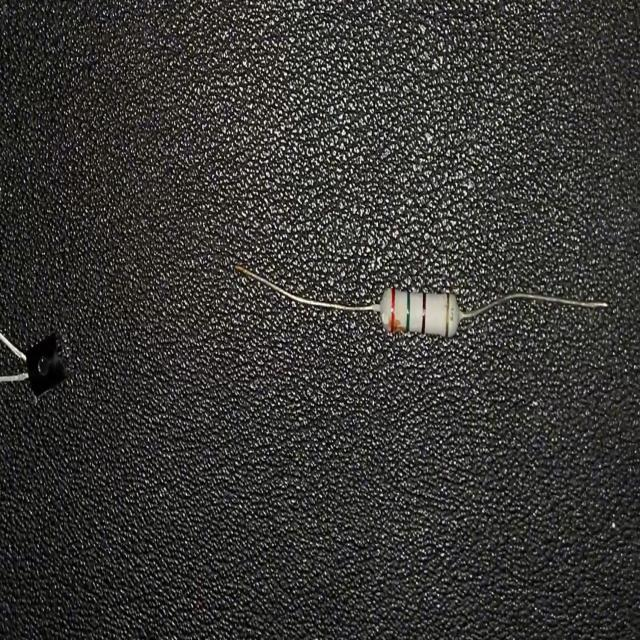burnt: (384, 313, 407, 336)
missing-leg: (0, 328, 72, 412)
resistor: (235, 260, 610, 344)
